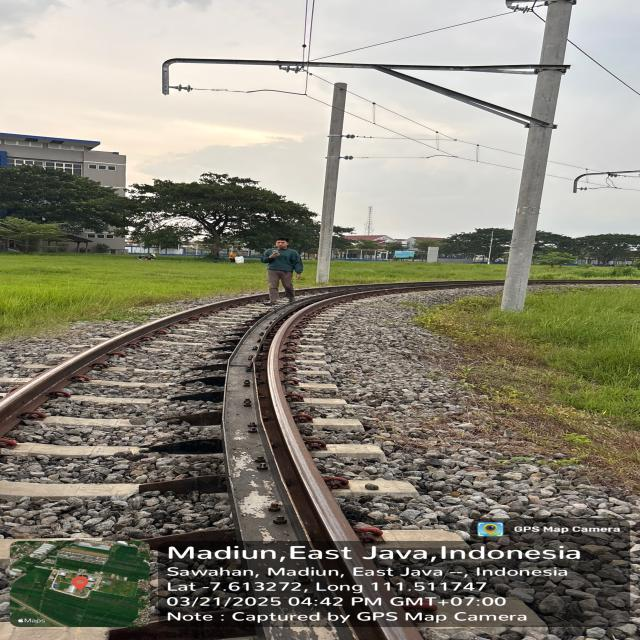rail-detection: (110, 281, 499, 640), (0, 296, 260, 435), (268, 311, 364, 560)
